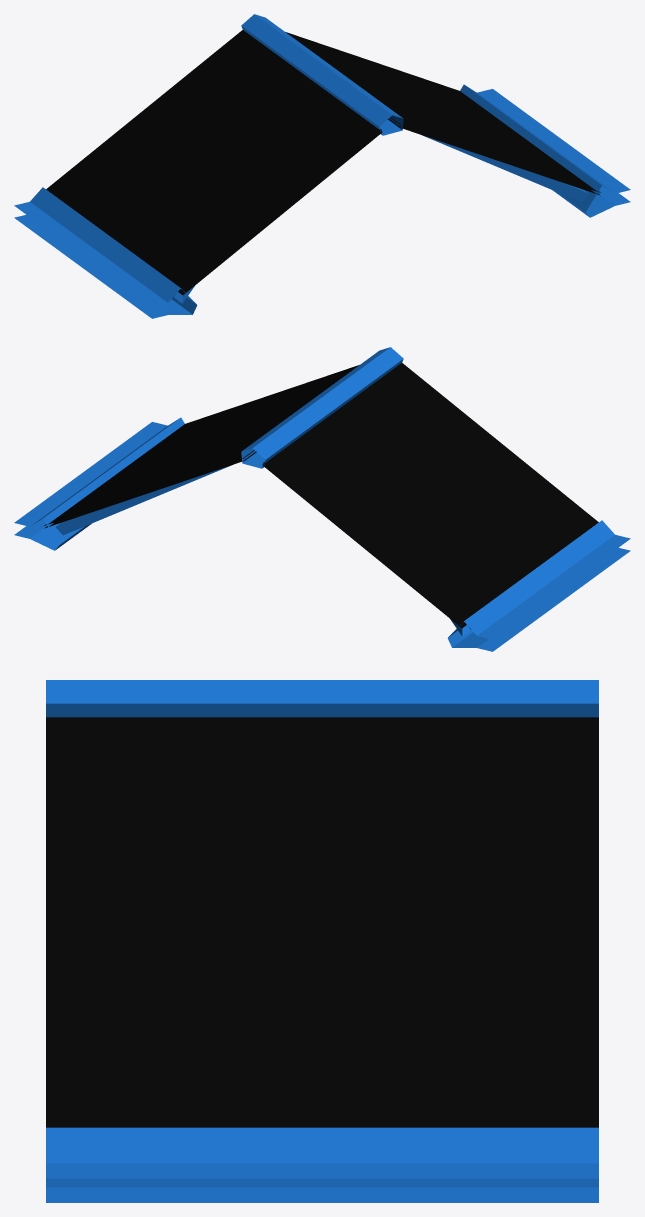
File: SM_roof1.fbx
3 renders of one model, top to bottom at view 1: azimuth 30°, elevation 25°; view 2: azimuth 150°, elevation 25°; view 3: azimuth 270°, elevation 25°, orthographic. The views are drawn at different scales.
Parts seen in each view (by area): view 1: roof1; view 2: roof1; view 3: roof1.
Part boxes in pixels (<box>): roof1: <box>14,14,630,318</box>; roof1: <box>14,347,630,651</box>; roof1: <box>46,680,598,1202</box>.
Size of the model in its own units: 400 by 120 by 200.
